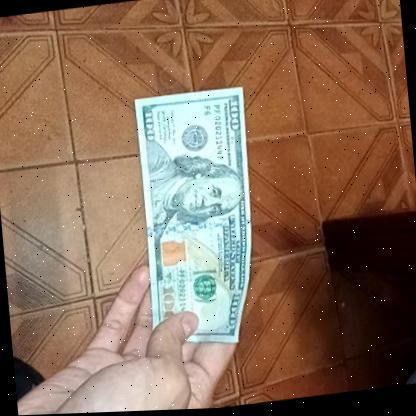one_hundred-front: (128, 84, 264, 357)
